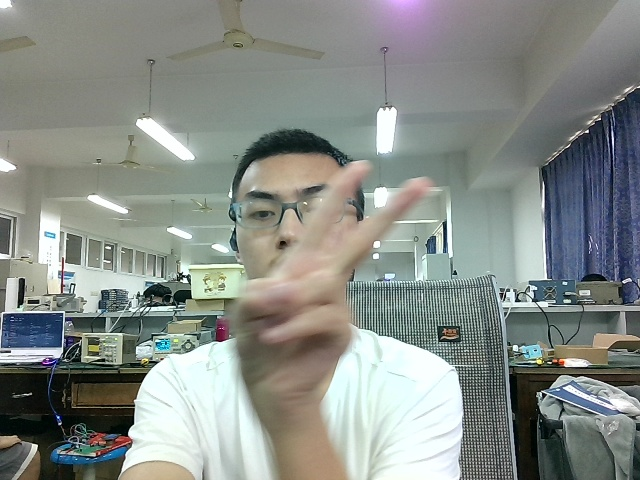scissor: (219, 149, 429, 439)
